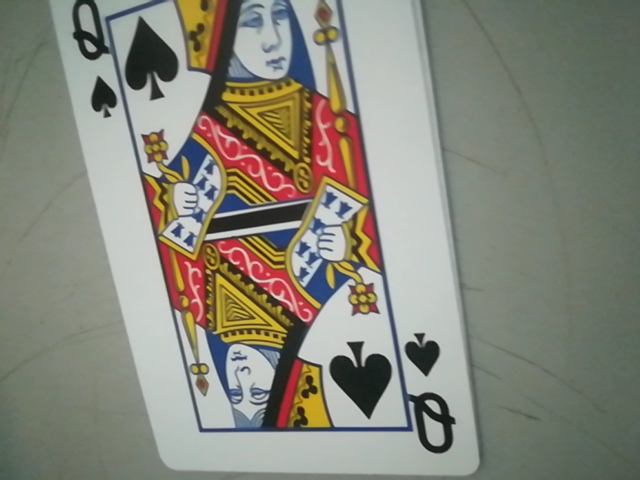ht q: (64, 0, 146, 121)
